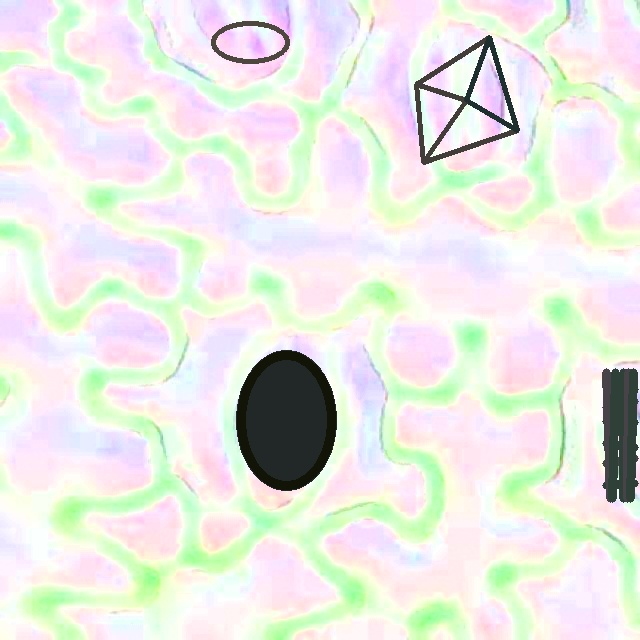open: (236, 350, 336, 489), (414, 35, 519, 164), (602, 369, 638, 502), (210, 20, 290, 64)
